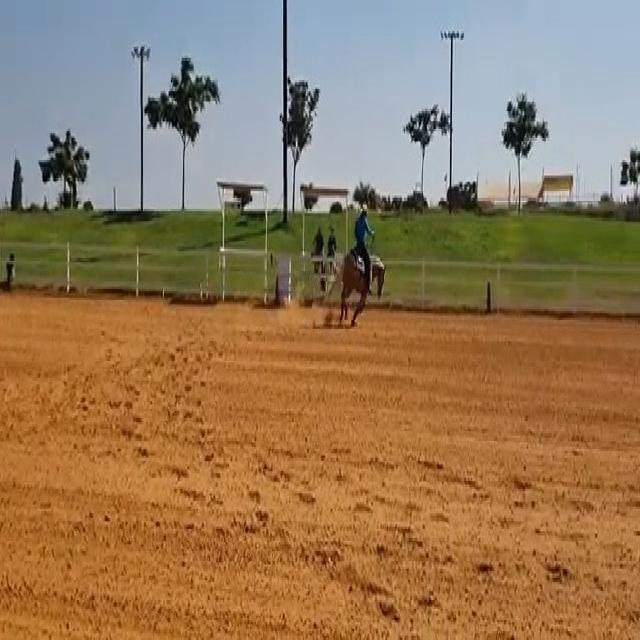horse: (334, 242, 387, 327)
